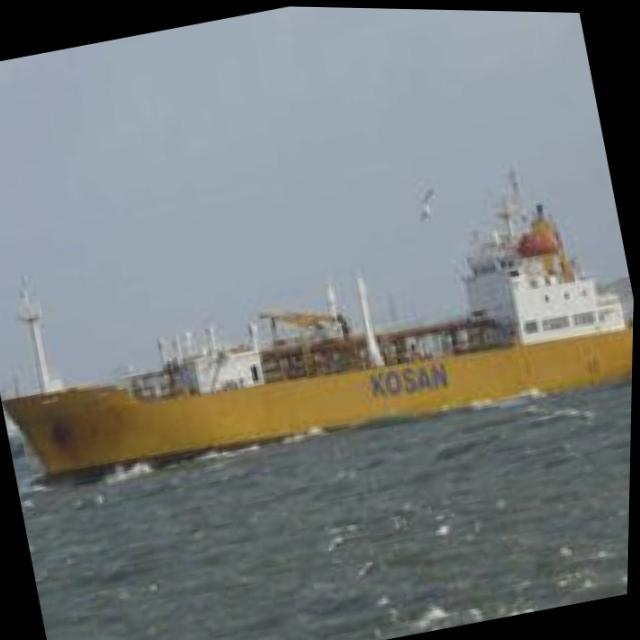ship2: (3, 186, 635, 475)
